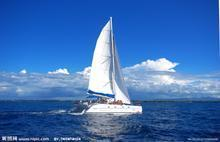fanchuan: (81, 16, 146, 115)
